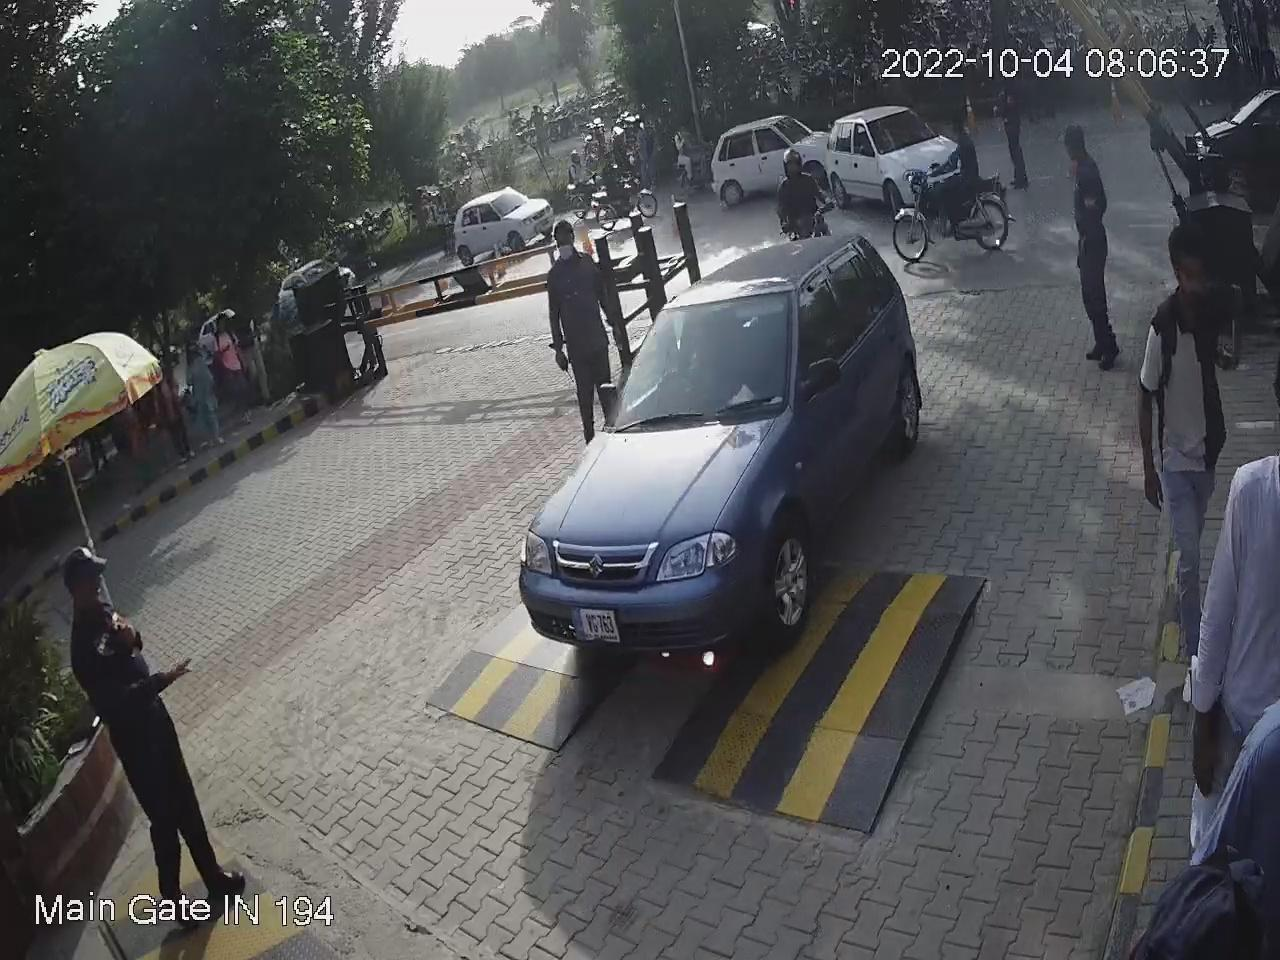windshield: (608, 287, 791, 433)
